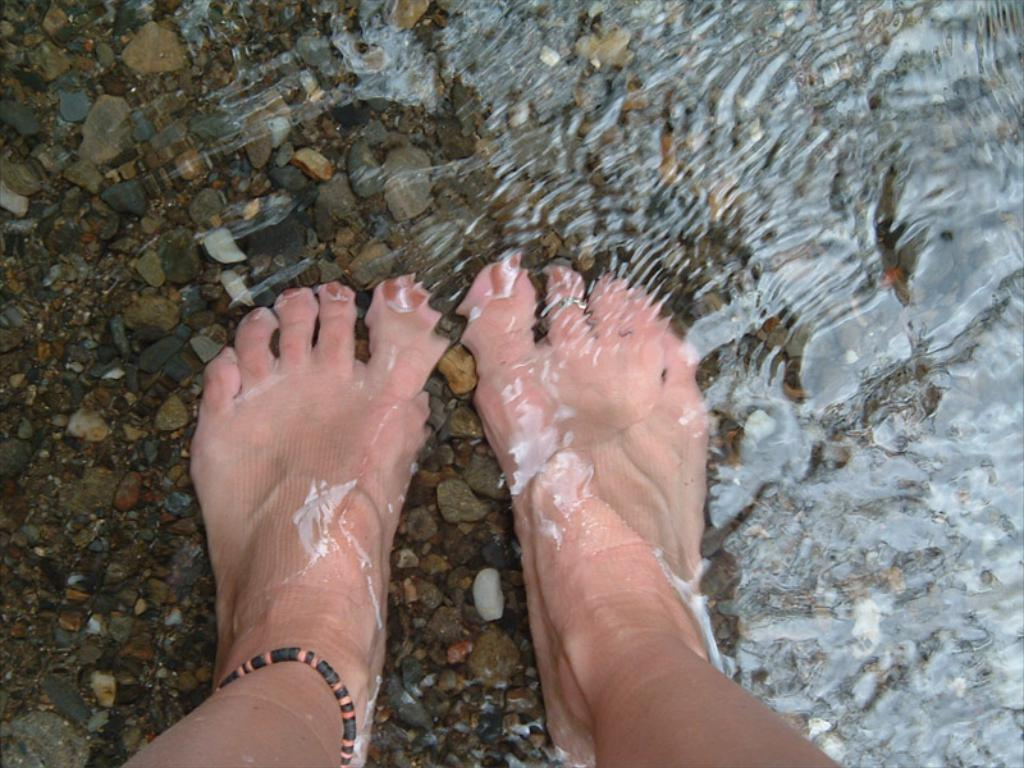Person: (120, 255, 845, 768)
